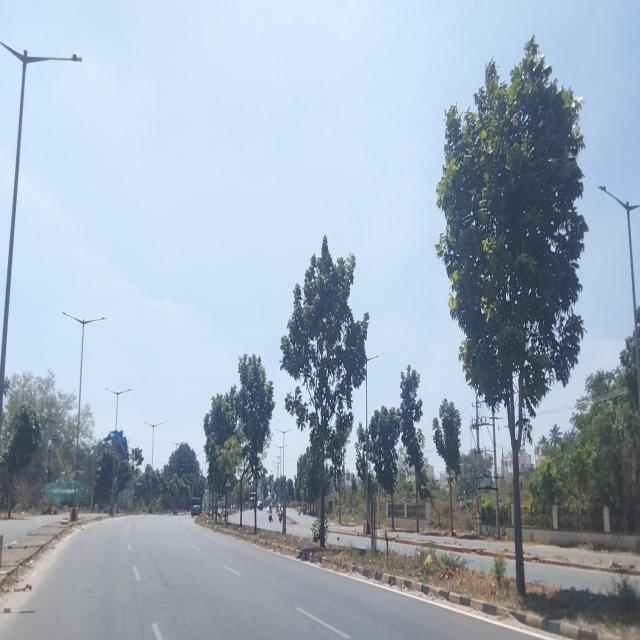bien_nguy_hiem: (225, 478, 231, 488)
